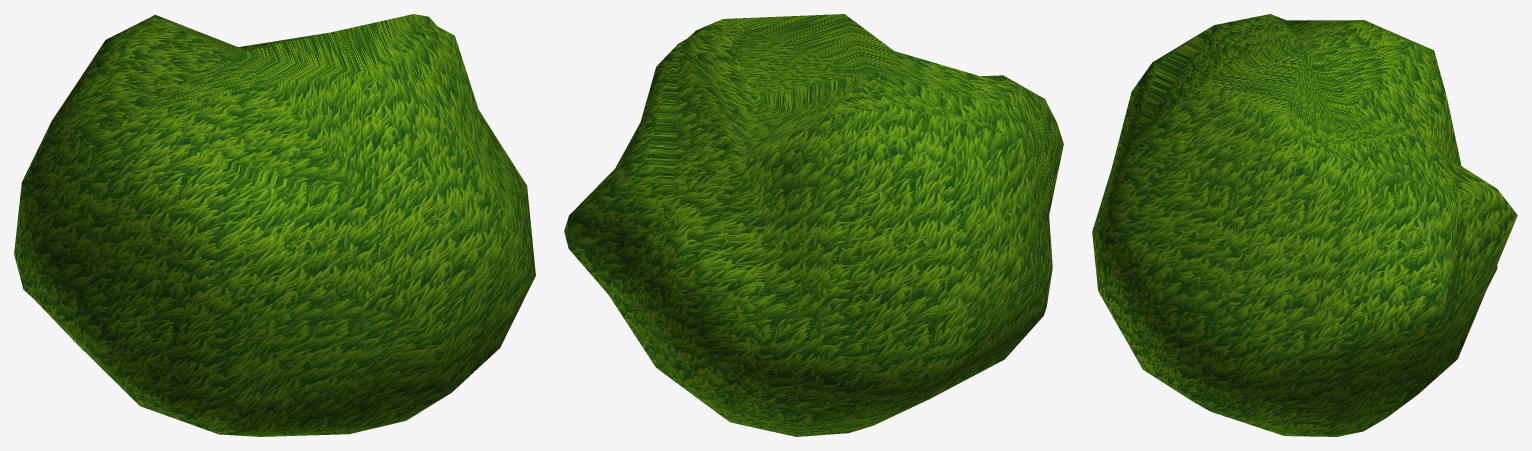
The model's file is bush3.fbx.
3 views of the same model, side by side, from view 1: azimuth 30°, elevation 25°; view 2: azimuth 150°, elevation 25°; view 3: azimuth 270°, elevation 25° (orthographic). The views are drawn at different scales.
Parts seen in each view (by area): view 1: Box009; view 2: Box009; view 3: Box009.
Part boxes in pixels (<box>): Box009: <box>14,14,535,436</box>; Box009: <box>564,14,1063,436</box>; Box009: <box>1092,14,1517,436</box>.
Bounding box in the file's own units: 137 × 113 × 125.
Materials: 1 (1 with a texture image).
